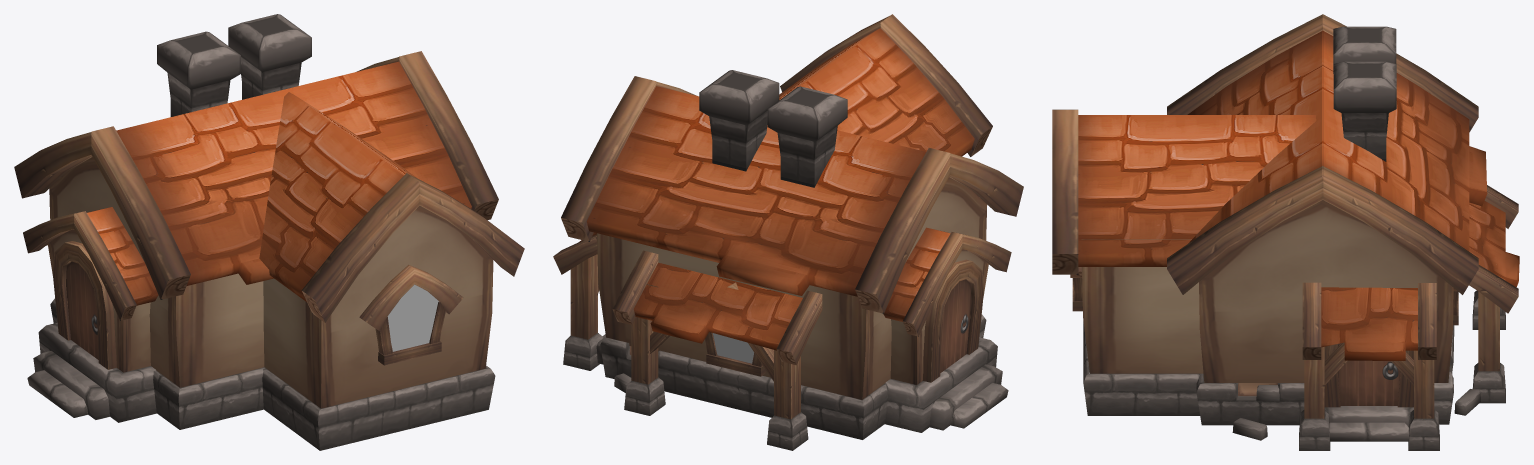
The model's file is building-4.FBX.
3 views of the same model, side by side, from view 1: azimuth 30°, elevation 25°; view 2: azimuth 150°, elevation 25°; view 3: azimuth 270°, elevation 25° (orthographic). The views are drawn at different scales.
Visible parts, largest first — view 1: building-4, building-4 - lights on; view 2: building-4, building-4 - lights on; view 3: building-4.
Part boxes in pixels (x1,y1,x2,y2): building-4: [14, 14, 524, 450]; building-4 - lights on: [387, 284, 438, 351]; building-4: [553, 14, 1023, 450]; building-4 - lights on: [713, 333, 753, 363]; building-4: [1052, 14, 1519, 450].
Size of the model in its own units: 1489 by 1084 by 1493.
